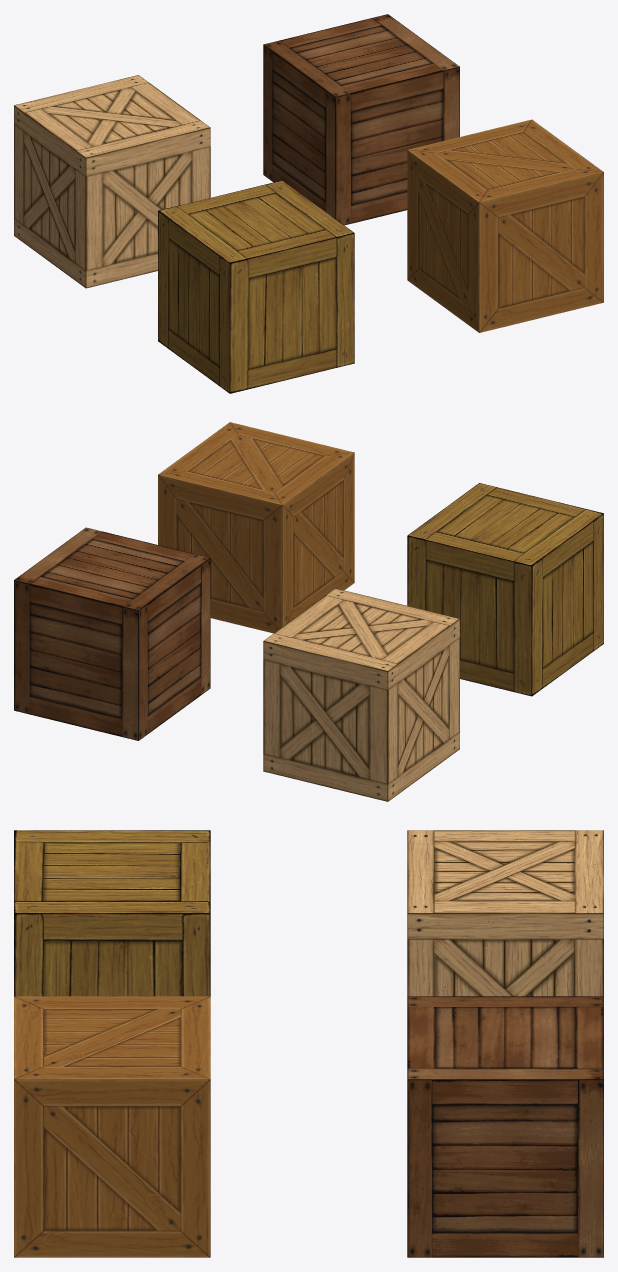
The model's file is fragile block - box.fbx.
The picture shows the model from 3 angles, top to bottom: view 1: azimuth 30°, elevation 25°; view 2: azimuth 150°, elevation 25°; view 3: azimuth 270°, elevation 25°; orthographic projection. The views are drawn at different scales.
Visible parts, largest first — view 1: Box004, Box005, Box003, Box001; view 2: Box001, Box003, Box004, Box005; view 3: Box001, Box005, Box003, Box004.
Boxes of the visible parts, x1=… form: Box004: x1=158, y1=180, x2=354, y2=393; Box005: x1=407, y1=119, x2=603, y2=332; Box003: x1=14, y1=75, x2=210, y2=288; Box001: x1=263, y1=14, x2=459, y2=225; Box001: x1=14, y1=527, x2=210, y2=740; Box003: x1=263, y1=588, x2=459, y2=801; Box004: x1=407, y1=483, x2=603, y2=696; Box005: x1=158, y1=422, x2=354, y2=633; Box001: x1=407, y1=996, x2=603, y2=1257; Box005: x1=14, y1=996, x2=210, y2=1257; Box003: x1=407, y1=830, x2=603, y2=996; Box004: x1=14, y1=830, x2=210, y2=996.
Bounding box in the file's own units: 4.5 × 1.5 × 4.5.
Materials: 4 (4 with a texture image).
